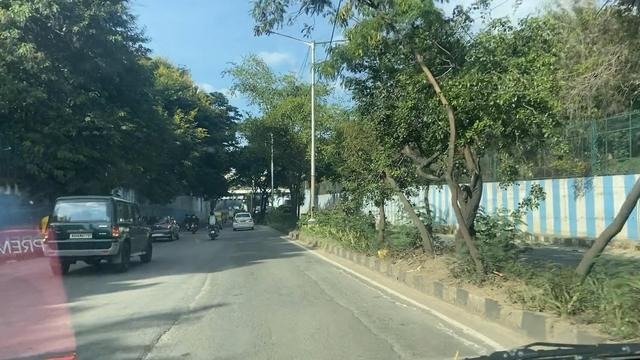LMV: (44, 198, 149, 267), (207, 212, 221, 237), (233, 211, 251, 229)
RoadDamages: (295, 261, 405, 360), (138, 260, 223, 360)
